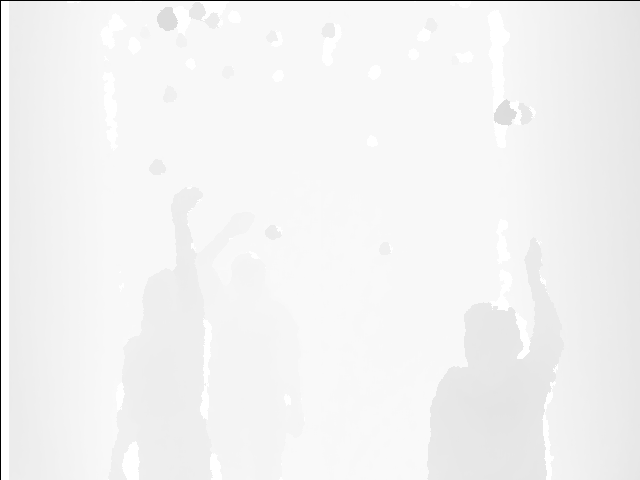hand: (219, 208, 256, 246), (170, 187, 203, 226), (516, 232, 541, 278)
